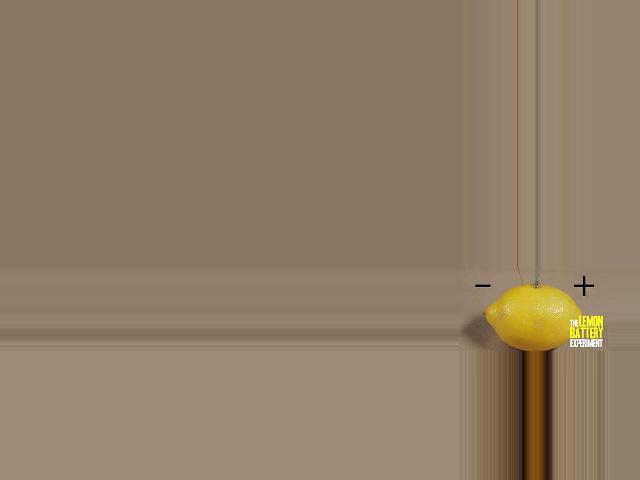lemon: (480, 280, 594, 351)
